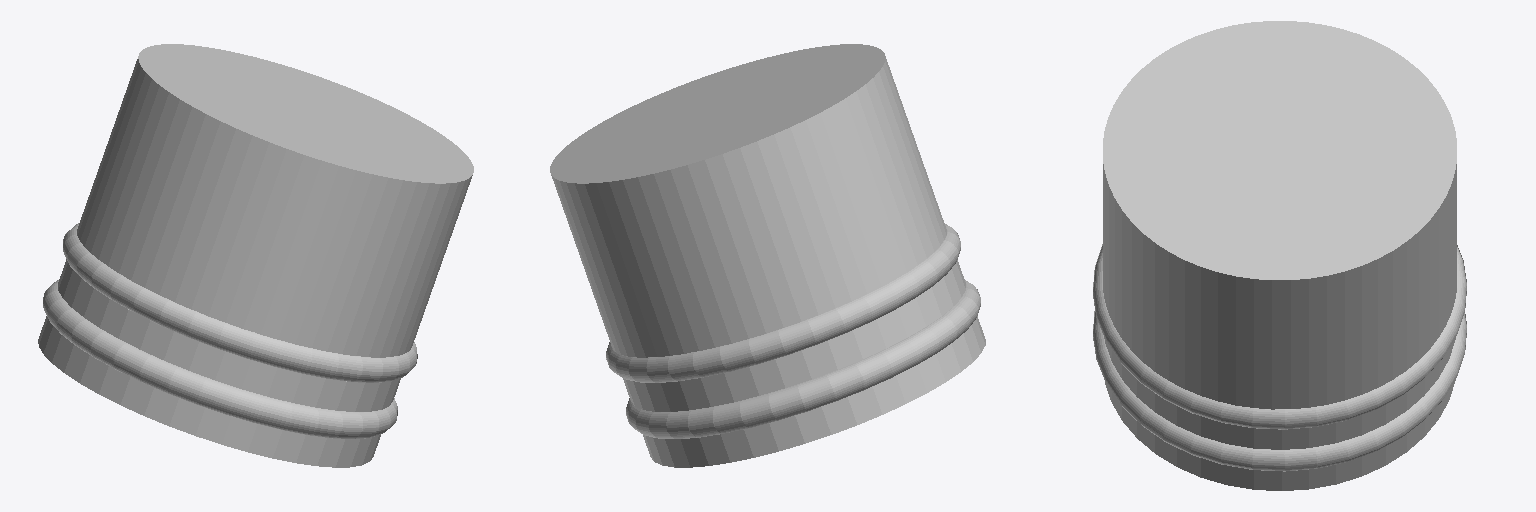
Rendered from bombilla98.obj.
3 views of the same model, side by side, from view 1: azimuth 30°, elevation 25°; view 2: azimuth 150°, elevation 25°; view 3: azimuth 270°, elevation 25° (orthographic).
Parts seen in each view (by area): view 1: Cylinder001, Cylinder003, Cylinder004, Cylinder006, Cylinder002; view 2: Cylinder001, Cylinder003, Cylinder004, Cylinder006, Cylinder002; view 3: Cylinder001, Cylinder004, Cylinder002, Cylinder003, Cylinder006.
Part boxes in pixels (left/top/right/bottom): Cylinder001: left=77, top=44, right=473, bottom=357; Cylinder003: left=58, top=259, right=400, bottom=411; Cylinder004: left=43, top=280, right=397, bottom=439; Cylinder006: left=38, top=316, right=380, bottom=467; Cylinder002: left=63, top=223, right=417, bottom=382; Cylinder001: left=550, top=44, right=946, bottom=357; Cylinder003: left=623, top=260, right=965, bottom=411; Cylinder004: left=626, top=280, right=980, bottom=438; Cylinder006: left=643, top=316, right=985, bottom=467; Cylinder002: left=606, top=224, right=960, bottom=382; Cylinder001: left=1103, top=21, right=1456, bottom=409; Cylinder004: left=1093, top=311, right=1466, bottom=471; Cylinder002: left=1093, top=244, right=1466, bottom=429; Cylinder003: left=1104, top=338, right=1455, bottom=449; Cylinder006: left=1105, top=379, right=1455, bottom=490.
Size of the model in its own units: 85.76 by 80.87 by 72.21.